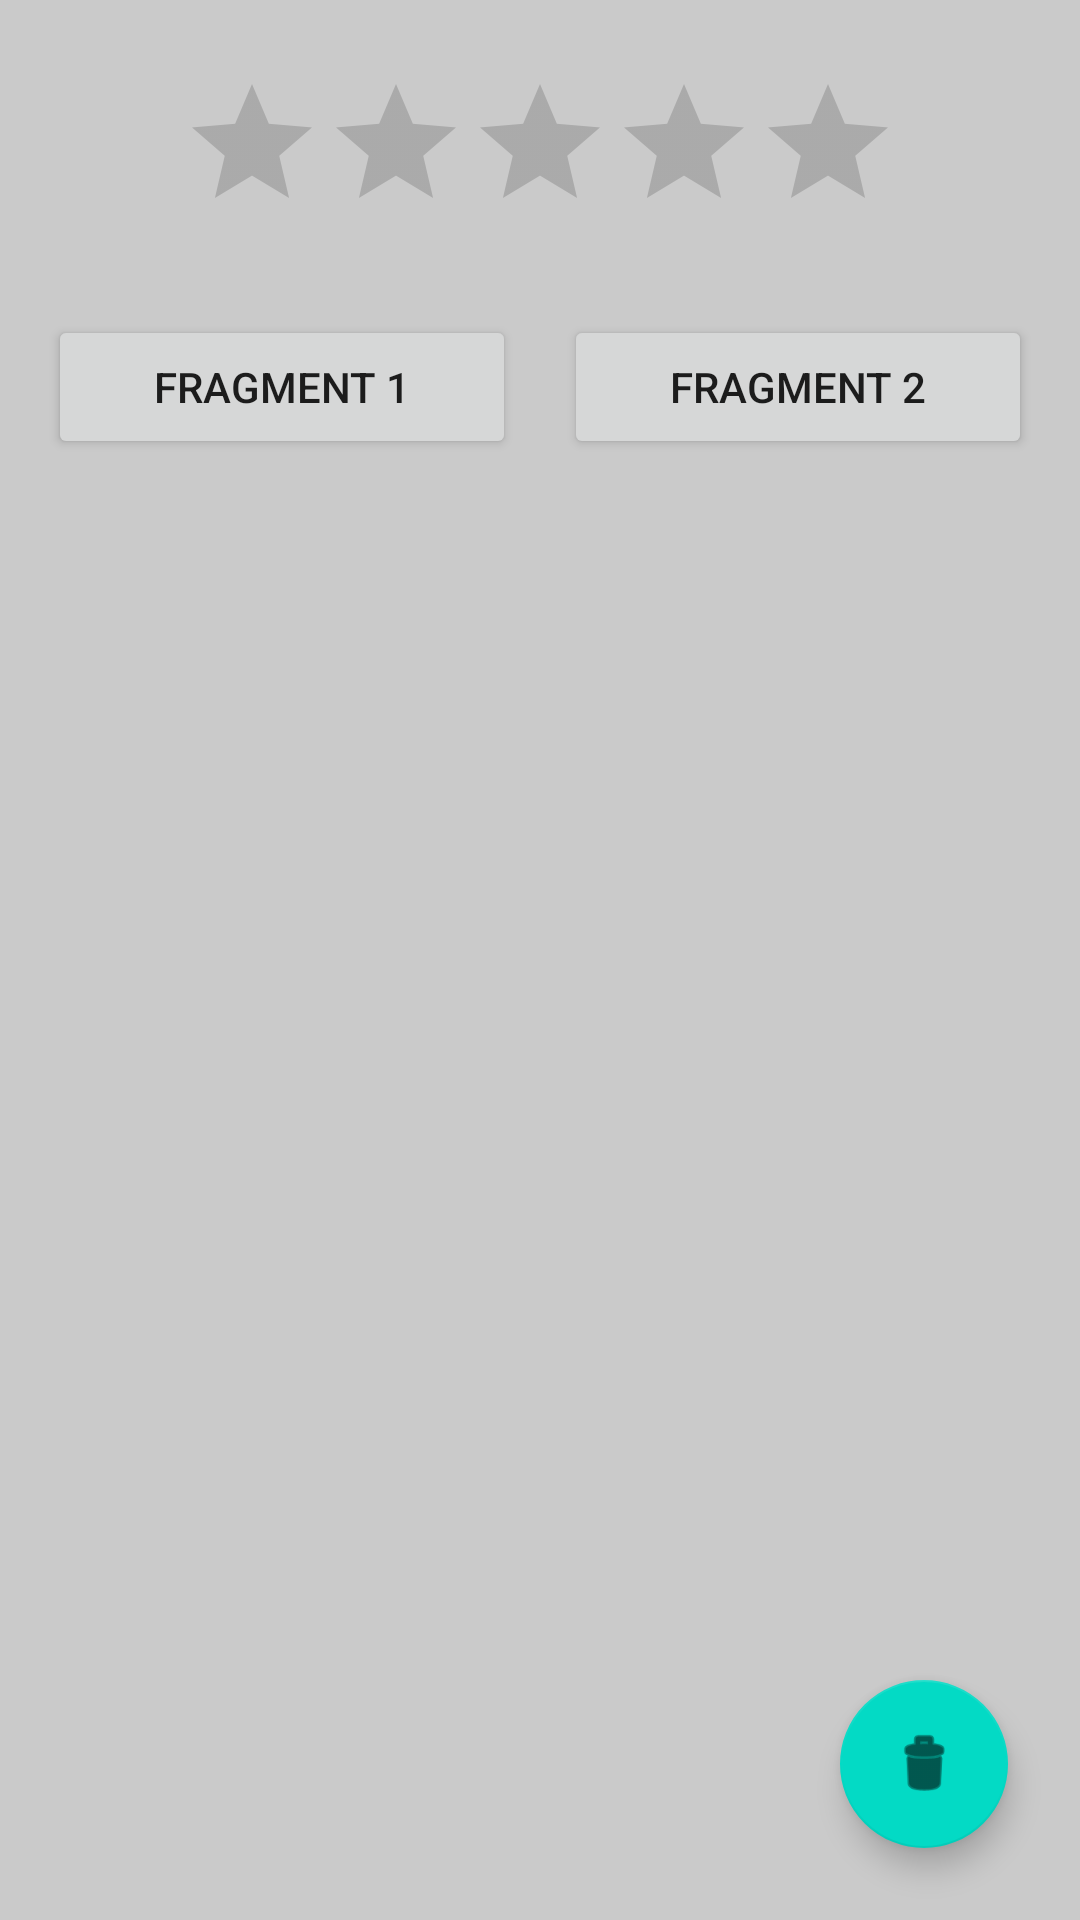

Icons on this 1080×1920 Android screen, each with the point to tap as (x=x, y=y):
delete: (x=924, y=1764)
